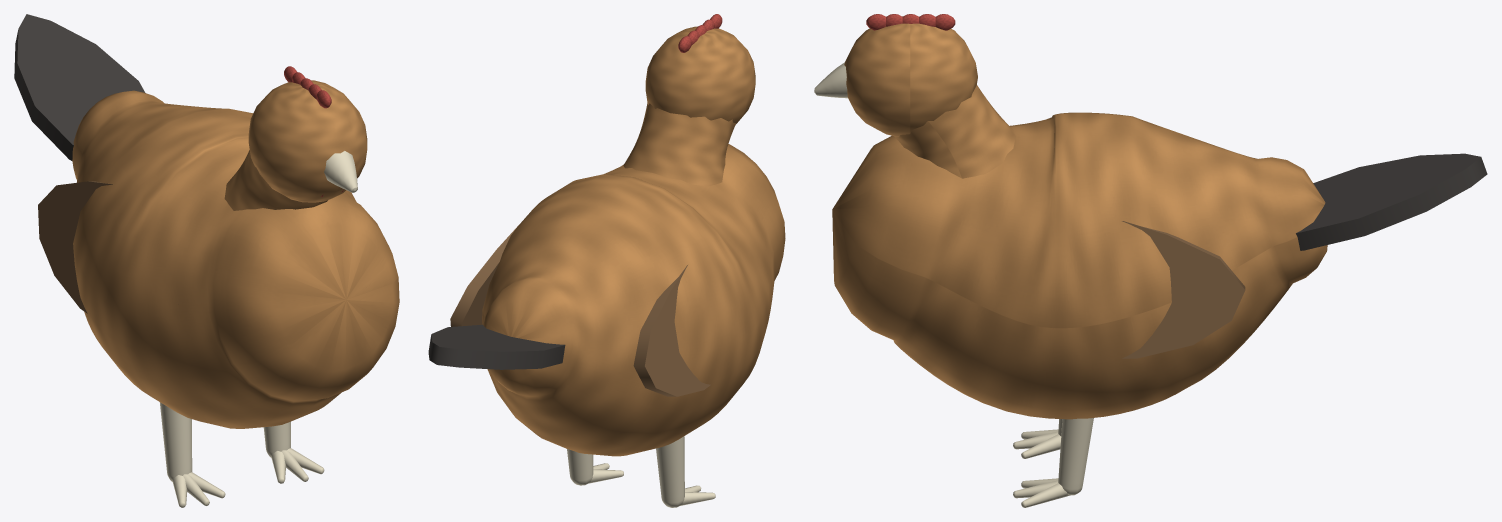
File: chicken.glb
The picture shows the model from 3 angles, left to right: view 1: azimuth 30°, elevation 25°; view 2: azimuth 150°, elevation 25°; view 3: azimuth 270°, elevation 25°; orthographic projection. The views are drawn at different scales.
Visible parts, largest first — view 1: hen; view 2: hen; view 3: hen.
Part boxes in pixels (x1,y1,x2,y2): hen: [14, 14, 399, 507]; hen: [428, 14, 785, 507]; hen: [814, 14, 1487, 507].
Size of the model in its own units: 0.2732 by 0.4725 by 0.6279.
Materials: 5 (4 with a texture image).
